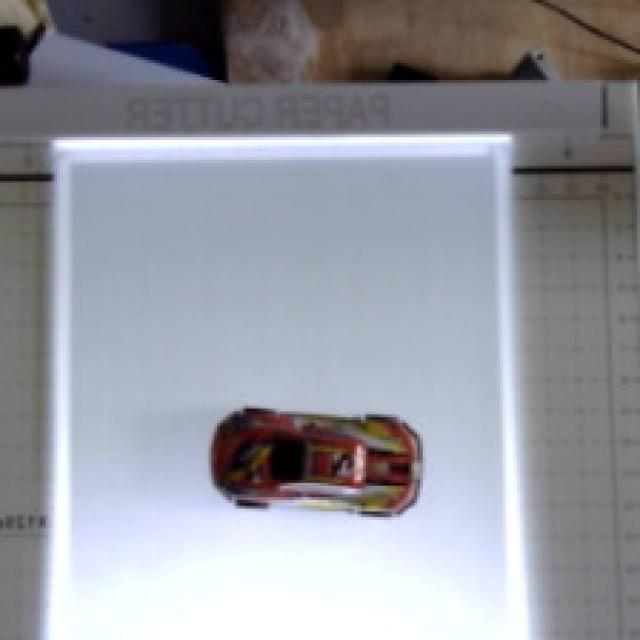Red Car: (180, 371, 462, 585)
